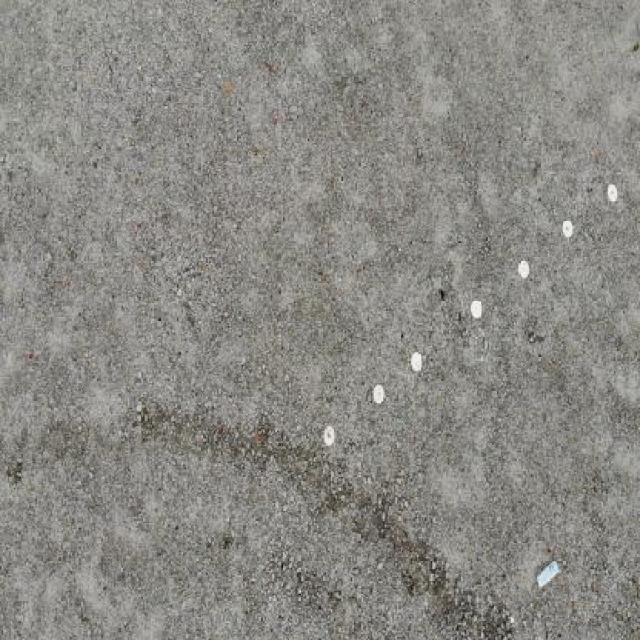Garbage: (534, 558, 560, 589)
